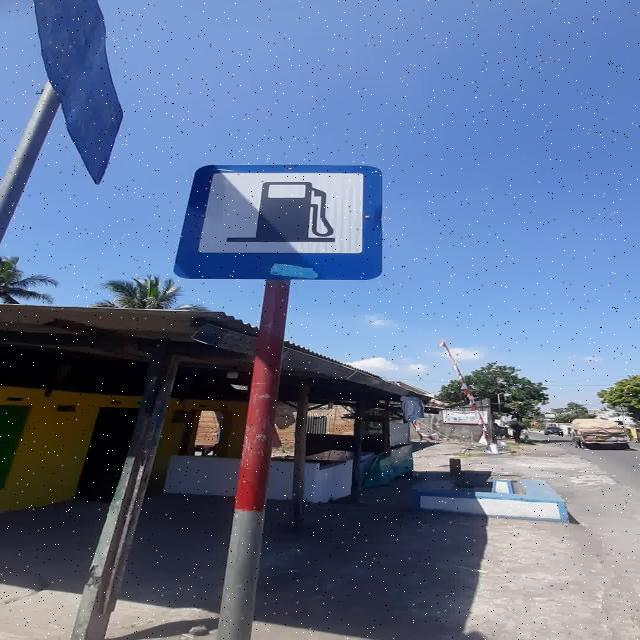Pom Bensin: (174, 164, 384, 281)
